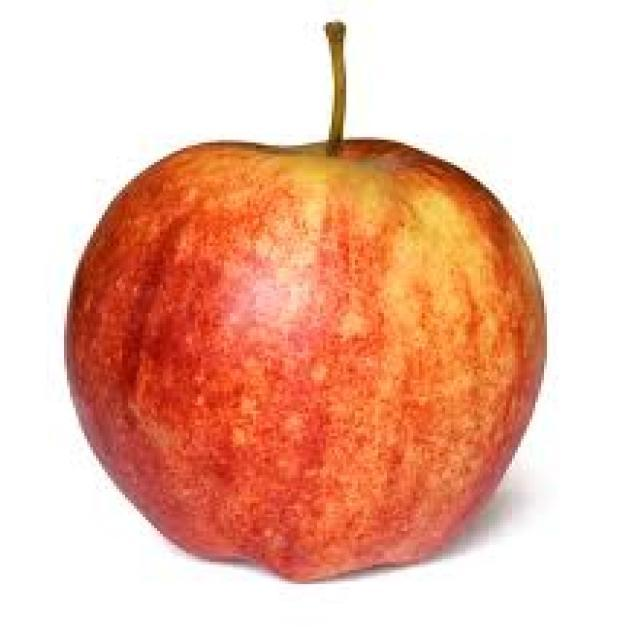Apple: (52, 16, 573, 592)
